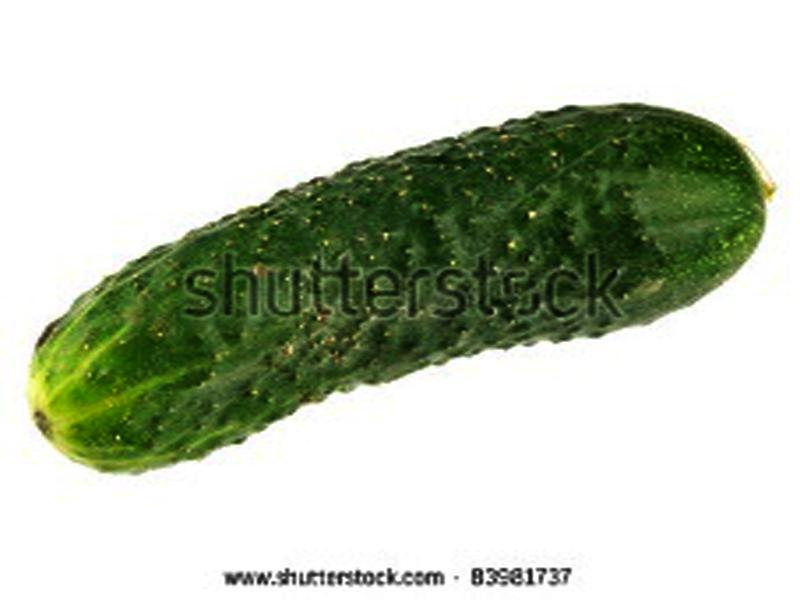Cucumber: (32, 103, 768, 470)
